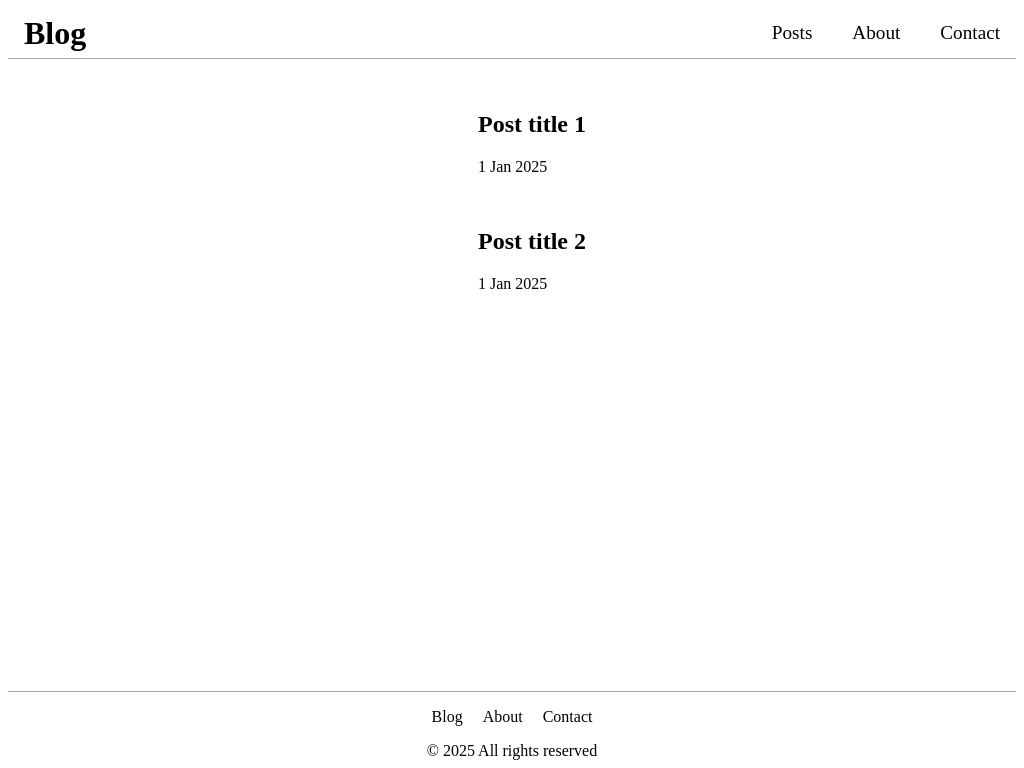
it: App component › Footer › should render about page
Click the 2nd link "About" at (503, 717), box 483,708 -> 523,726
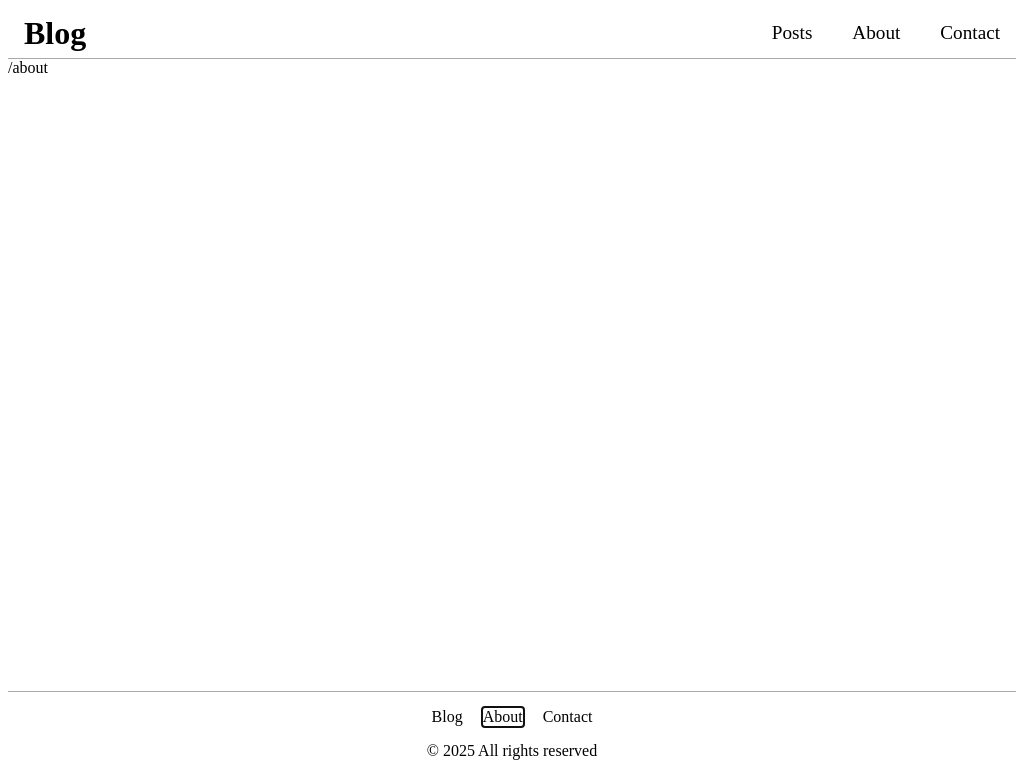
Result: the text "/about" is shown at 8,59 -> 48,76
